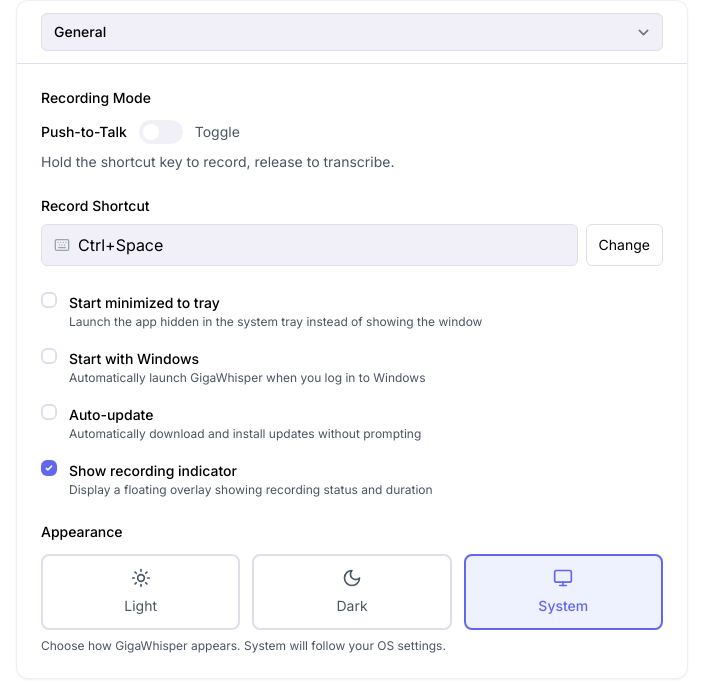
Test: SettingsPanel › Tab Navigation › should switch to Transcription tab when selected
This screenshot has width=705, height=696.
Select "Transcription" in the dropdown with test id "tab-selector": (352, 32) x1=41 y1=13 x2=663 y2=51
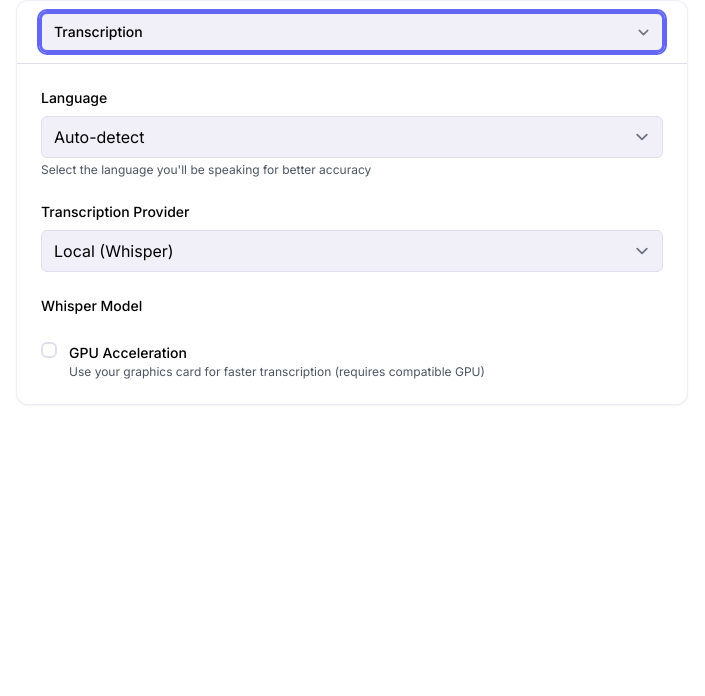
Expected: the text "Language" is shown, x1=41 y1=89 x2=107 y2=106
Expected: the text "Whisper Model" is shown, x1=41 y1=297 x2=142 y2=314
